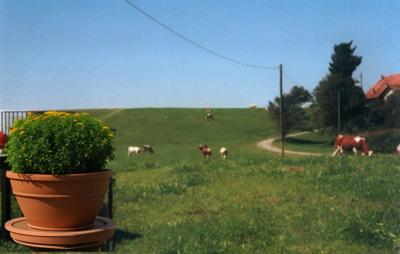cow: (332, 133, 375, 156)
pottedplant: (1, 111, 115, 251)
